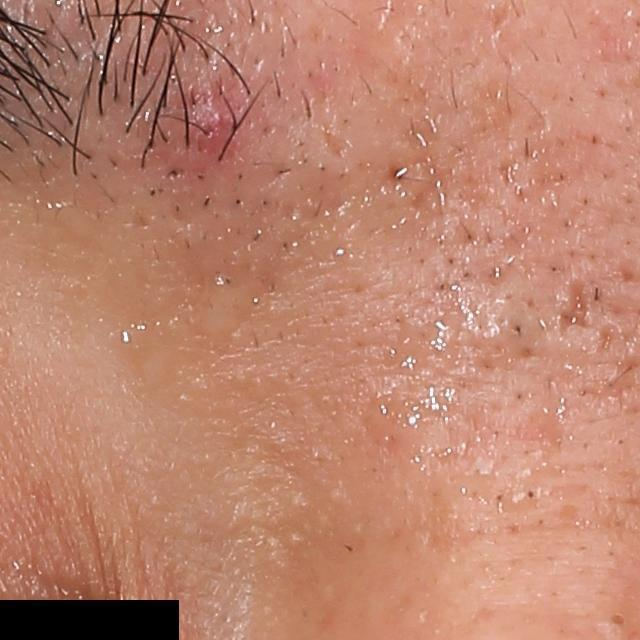atrophic_scar: (403, 124, 457, 218), (515, 398, 564, 456), (555, 278, 594, 336)
